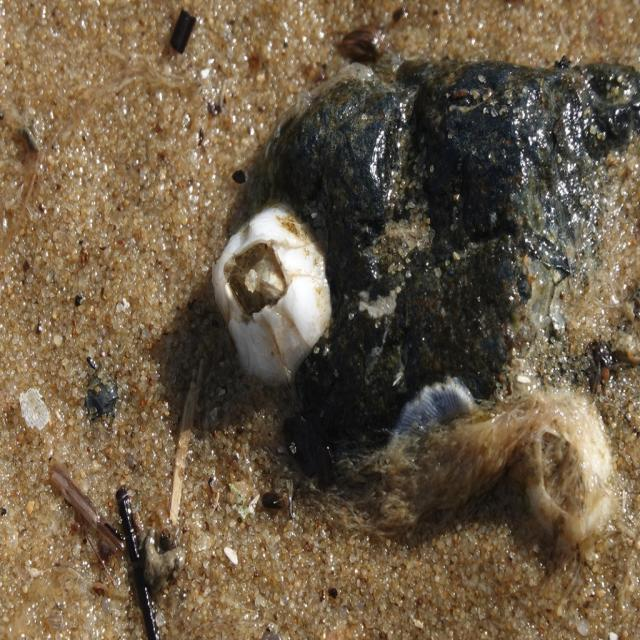barnacles: (207, 184, 331, 378)
